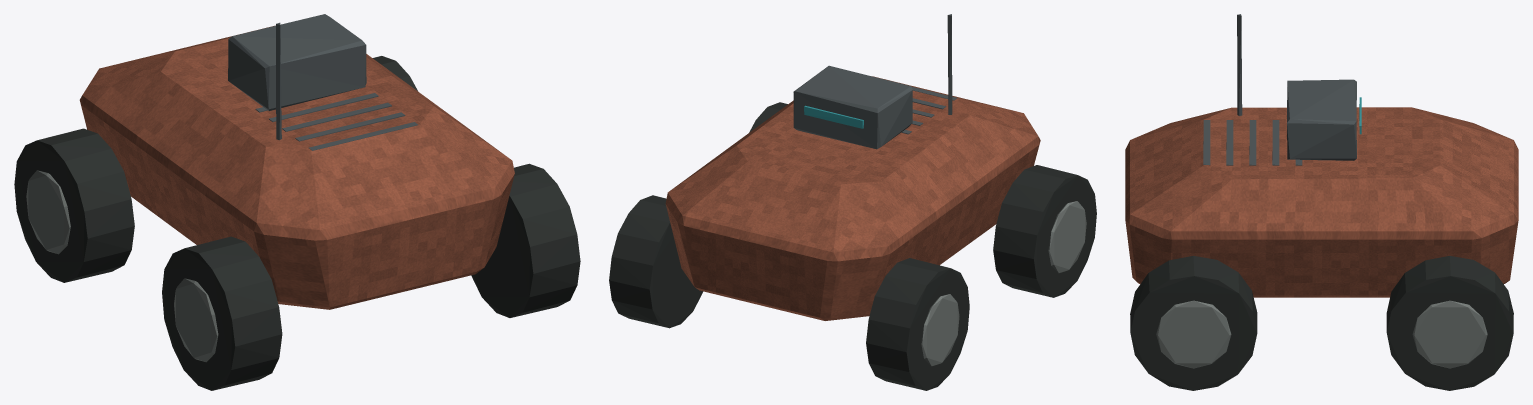
3 renders of one model, left to right at view 1: azimuth 30°, elevation 25°; view 2: azimuth 150°, elevation 25°; view 3: azimuth 270°, elevation 25°, orthographic. The views are drawn at different scales.
Visible parts, largest first — view 1: ST2-E01_Mesh, Wheel_L_Rear_Mesh, Wheel_L_Front_Mesh, Wheel_R_Rear_Mesh, SensorYaw_Mesh; view 2: ST2-E01_Mesh, Wheel_L_Rear_Mesh, Wheel_L_Front_Mesh, Wheel_R_Front_Mesh, SensorYaw_Mesh; view 3: ST2-E01_Mesh, Wheel_R_Rear_Mesh, Wheel_R_Front_Mesh, SensorYaw_Mesh.
Boxes of the visible parts, x1=… form: ST2-E01_Mesh: x1=79, y1=22, x2=514, y2=309; Wheel_L_Rear_Mesh: x1=162, y1=236, x2=282, y2=390; Wheel_L_Front_Mesh: x1=14, y1=128, x2=134, y2=282; Wheel_R_Rear_Mesh: x1=471, y1=163, x2=580, y2=317; SensorYaw_Mesh: x1=228, y1=14, x2=366, y2=110; ST2-E01_Mesh: x1=665, y1=14, x2=1040, y2=320; Wheel_L_Rear_Mesh: x1=993, y1=165, x2=1096, y2=297; Wheel_L_Front_Mesh: x1=866, y1=258, x2=969, y2=390; Wheel_R_Front_Mesh: x1=609, y1=195, x2=703, y2=328; SensorYaw_Mesh: x1=793, y1=65, x2=912, y2=149; ST2-E01_Mesh: x1=1125, y1=14, x2=1518, y2=297; Wheel_R_Rear_Mesh: x1=1130, y1=255, x2=1257, y2=390; Wheel_R_Front_Mesh: x1=1386, y1=256, x2=1513, y2=390; SensorYaw_Mesh: x1=1287, y1=79, x2=1361, y2=160.
Bounding box in the file's own units: 2.17 × 1.85 × 2.39.
